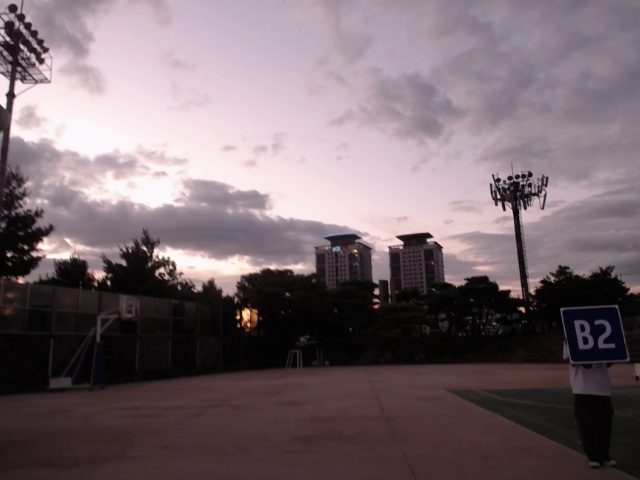delivery_b2: (560, 307, 628, 364)
